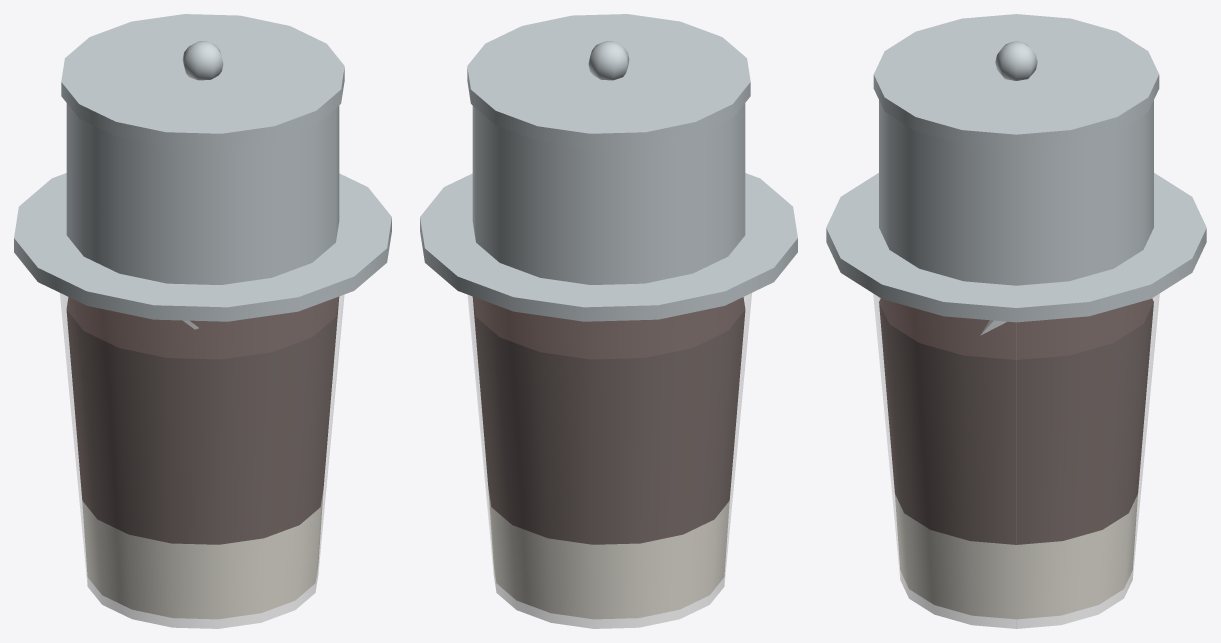
The model's file is coffee.glb.
The picture shows the model from 3 angles, left to right: view 1: azimuth 30°, elevation 25°; view 2: azimuth 150°, elevation 25°; view 3: azimuth 270°, elevation 25°; orthographic projection.
Visible parts, largest first — view 1: coffee; view 2: coffee; view 3: coffee.
Part boxes in pixels (<box>): coffee: <box>14,14,391,628</box>; coffee: <box>420,14,797,628</box>; coffee: <box>826,14,1206,628</box>.
Bounding box in the file's own units: 0.72 × 1.12 × 0.72.
